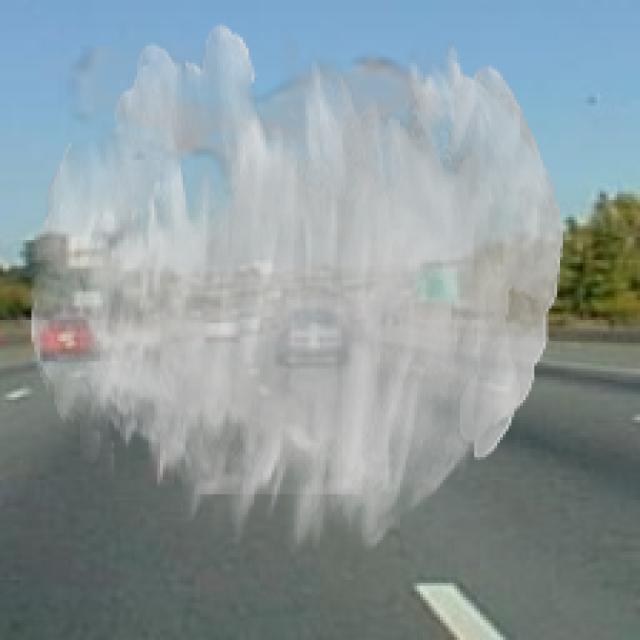Smoke: (28, 22, 563, 558)
